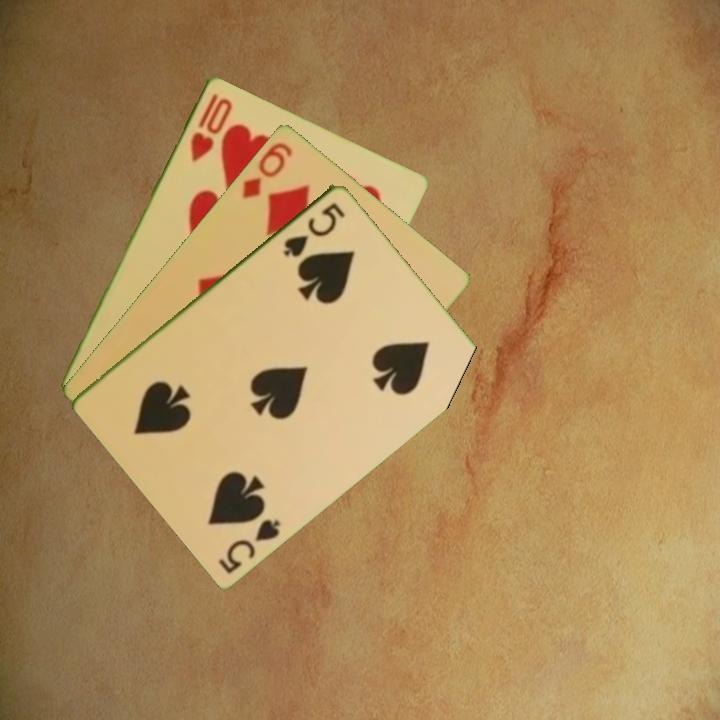10h: (186, 88, 235, 164)
5s: (279, 198, 349, 260), (214, 514, 284, 576)
6d: (238, 137, 295, 201)
